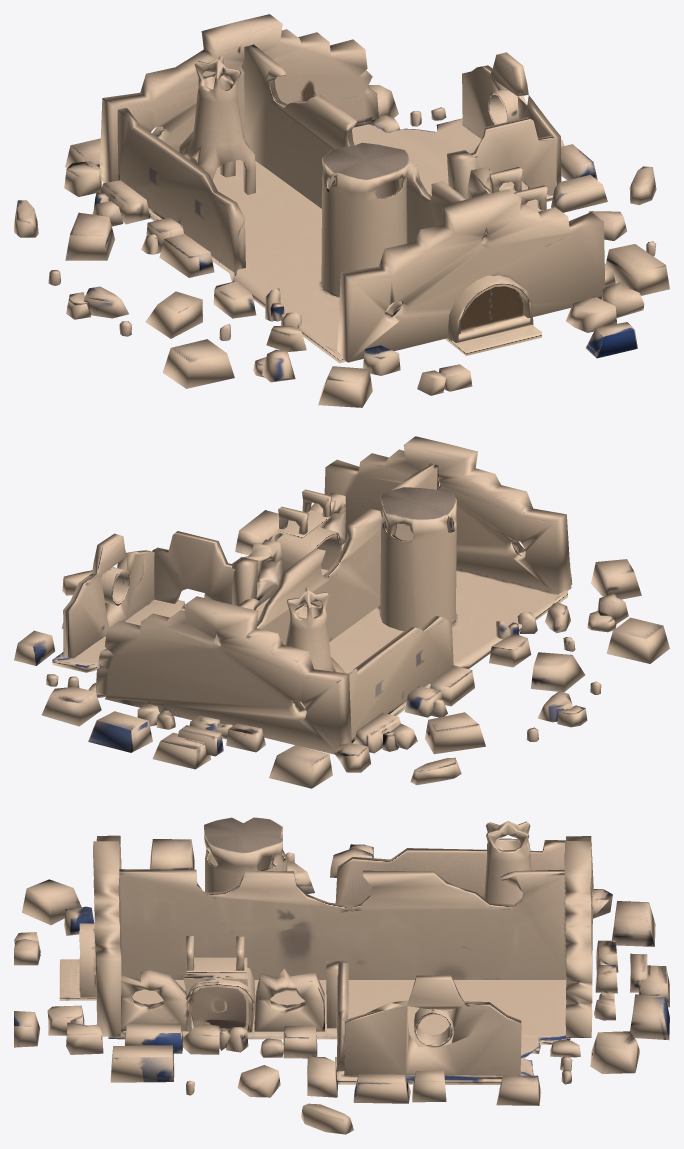
Rendered from meshy-c4-d3.glb.
3 views of the same model, one above another, from view 1: azimuth 30°, elevation 25°; view 2: azimuth 150°, elevation 25°; view 3: azimuth 270°, elevation 25° (orthographic). The views are drawn at different scales.
Bounding box in the file's own units: 1 × 0.2451 × 1.
1 material, 1 textured.
